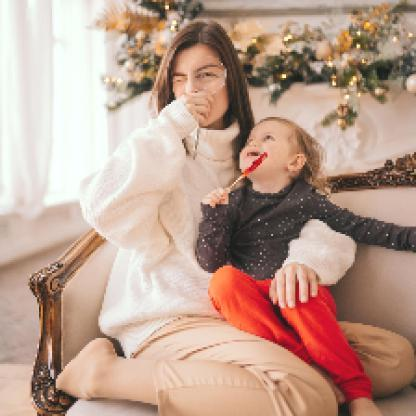child: (194, 116, 415, 415)
